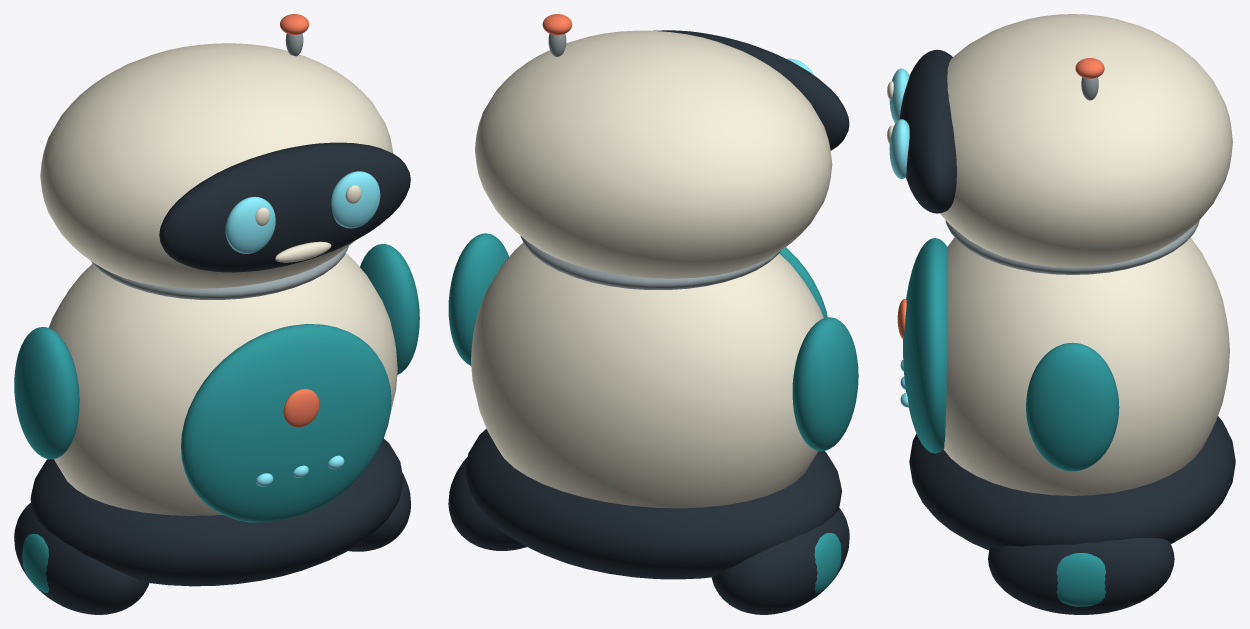
The model's file is bub.glb.
3 renders of one model, left to right at view 1: azimuth 30°, elevation 25°; view 2: azimuth 150°, elevation 25°; view 3: azimuth 270°, elevation 25°, orthographic.
Parts seen in each view (by area): view 1: oversized round head, pear shaped enamel chassis, lagoon belly plate, rubber bumper, dark friendly visor, little arm -1, wheel -1, little arm 1, neck swivel, bright eye -1, bright eye 1, wheel 1 (+3 smaller); view 2: pear shaped enamel chassis, oversized round head, rubber bumper, little arm -1, wheel -1, little arm 1, dark friendly visor, neck swivel, wheel 1, hub -1, lagoon belly plate; view 3: oversized round head, pear shaped enamel chassis, rubber bumper, little arm 1, wheel 1, lagoon belly plate, dark friendly visor, hub 1, neck swivel, bright eye 1, bright eye -1, antenna light.
Part boxes in pixels (bbox=[...]): oversized round head: bbox=[40, 43, 392, 288]; pear shaped enamel chassis: bbox=[48, 253, 397, 515]; lagoon belly plate: bbox=[181, 324, 391, 522]; rubber bumper: bbox=[30, 438, 403, 586]; dark friendly visor: bbox=[159, 142, 410, 272]; little arm -1: bbox=[14, 327, 79, 459]; wheel -1: bbox=[14, 503, 149, 614]; little arm 1: bbox=[360, 244, 419, 374]; neck swivel: bbox=[91, 246, 348, 299]; bright eye -1: bbox=[225, 196, 275, 253]; bright eye 1: bbox=[331, 171, 380, 228]; wheel 1: bbox=[348, 473, 410, 551]; pear shaped enamel chassis: bbox=[471, 242, 823, 508]; oversized round head: bbox=[475, 30, 832, 278]; rubber bumper: bbox=[465, 429, 841, 579]; little arm -1: bbox=[792, 317, 858, 451]; wheel -1: bbox=[711, 508, 849, 614]; little arm 1: bbox=[448, 233, 508, 365]; dark friendly visor: bbox=[653, 30, 849, 150]; neck swivel: bbox=[520, 236, 780, 289]; wheel 1: bbox=[448, 457, 526, 550]; hub -1: bbox=[814, 533, 841, 592]; lagoon belly plate: bbox=[779, 247, 827, 317]; oversized round head: bbox=[940, 14, 1232, 267]; pear shaped enamel chassis: bbox=[943, 237, 1229, 495]; rubber bumper: bbox=[909, 416, 1235, 550]; little arm 1: bbox=[1026, 342, 1119, 471]; wheel 1: bbox=[988, 538, 1174, 614]; lagoon belly plate: bbox=[903, 238, 947, 453]; dark friendly visor: bbox=[900, 49, 956, 213]; hub 1: bbox=[1056, 553, 1106, 606]; neck swivel: bbox=[945, 220, 1199, 274]; bright eye 1: bbox=[889, 119, 909, 178]; bright eye -1: bbox=[889, 68, 909, 123]; antenna light: bbox=[1075, 58, 1104, 78].
Size of the model in its own units: 0.76 by 1 by 0.598.
